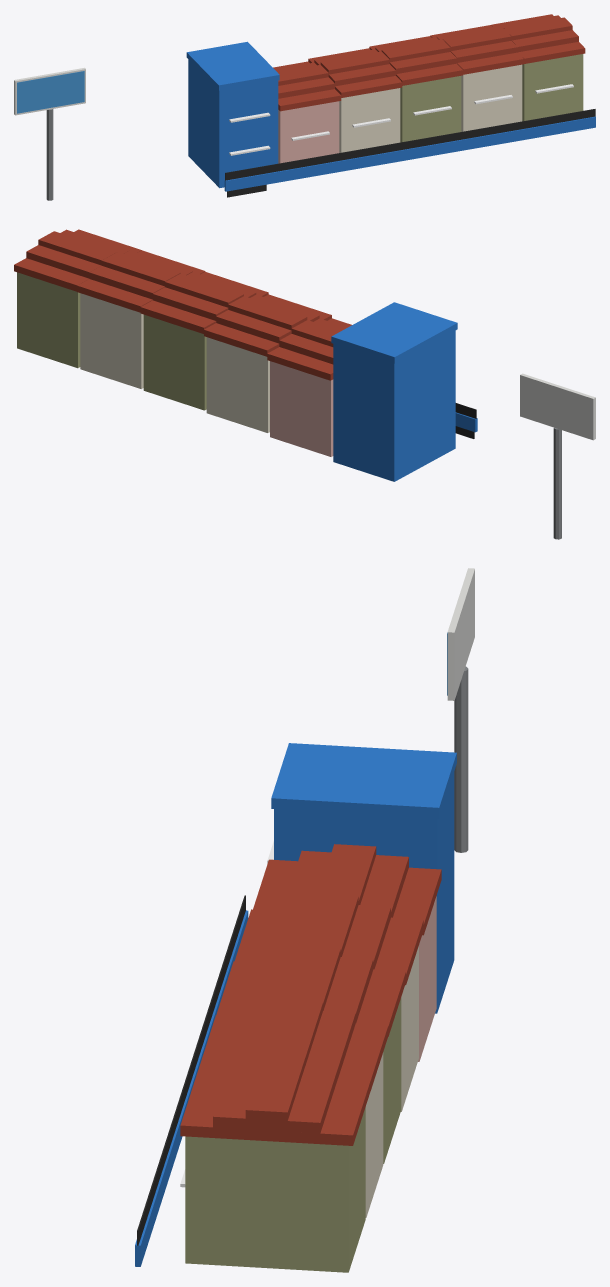
The model's file is pb_townhouses.glb.
3 views of the same model, one above another, from view 1: azimuth 30°, elevation 25°; view 2: azimuth 150°, elevation 25°; view 3: azimuth 270°, elevation 25° (orthographic). The views are drawn at different scales.
Parts seen in each view (by area): view 1: pb_townhouses_lod0; view 2: pb_townhouses_lod0; view 3: pb_townhouses_lod0.
Boxes of the visible parts, <box> form: pb_townhouses_lod0: <box>14,14,595,200</box>; pb_townhouses_lod0: <box>14,229,595,539</box>; pb_townhouses_lod0: <box>135,568,474,1272</box>.
Size of what is drawn, in the model's own units: 49.85 by 11.7 by 14.45.
